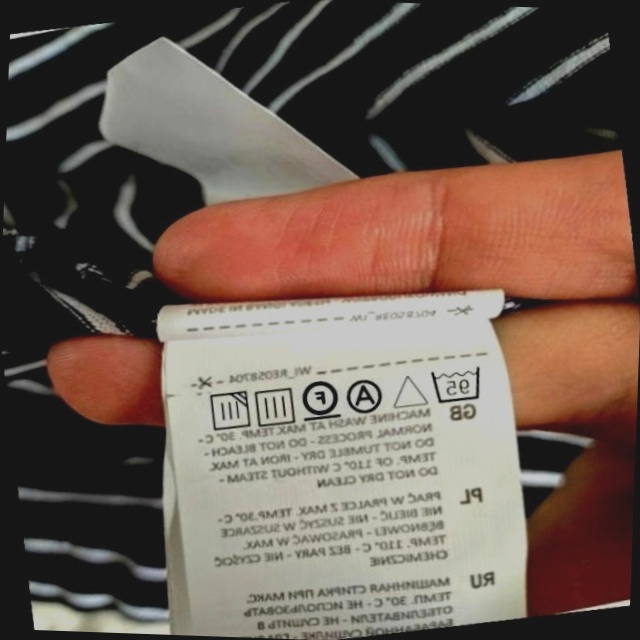95C: (426, 361, 487, 408)
bleach: (389, 367, 429, 413)
drip_dry: (250, 382, 299, 430)
drip_dry_in_shade: (202, 386, 253, 436)
dry_clean: (344, 375, 387, 417)
dry_clean_petrol_only: (297, 373, 342, 424)
